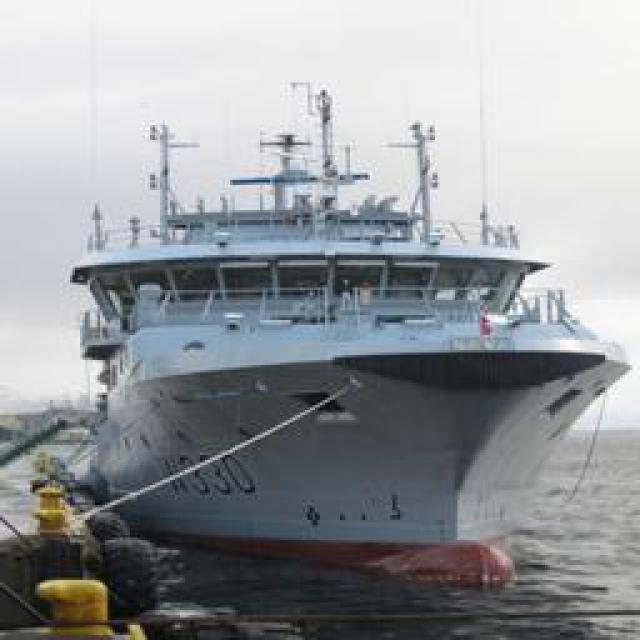Ship: (63, 90, 621, 565)
